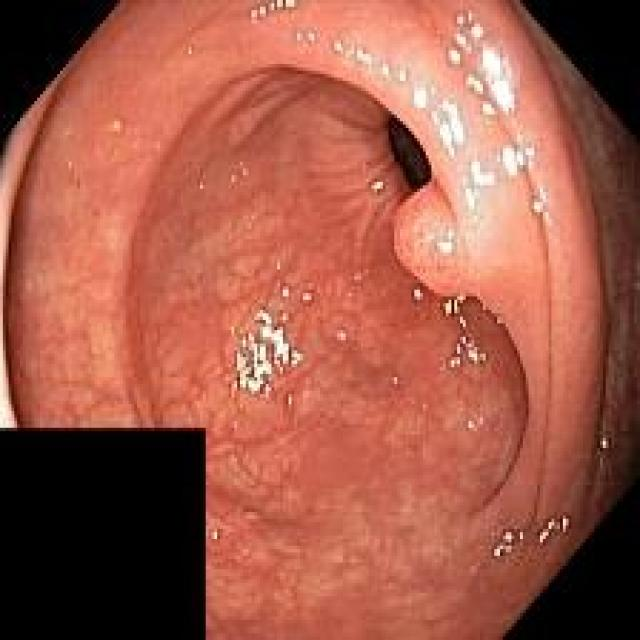Polyps: (392, 180, 478, 295)
